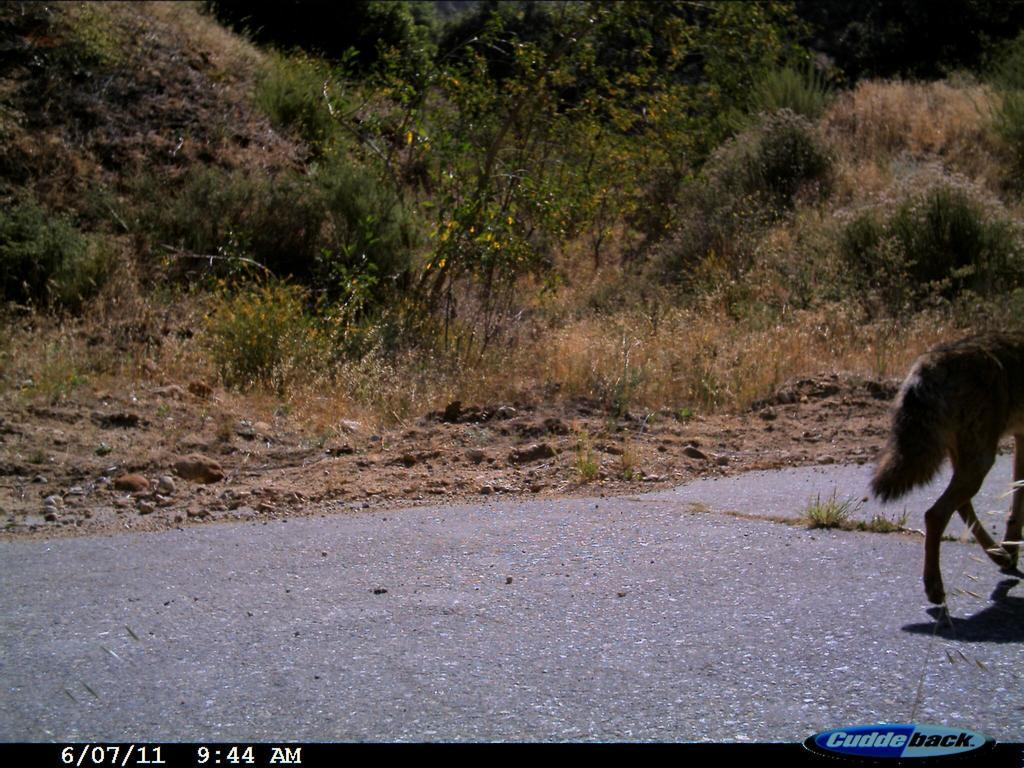coyote: (856, 308, 1023, 643)
